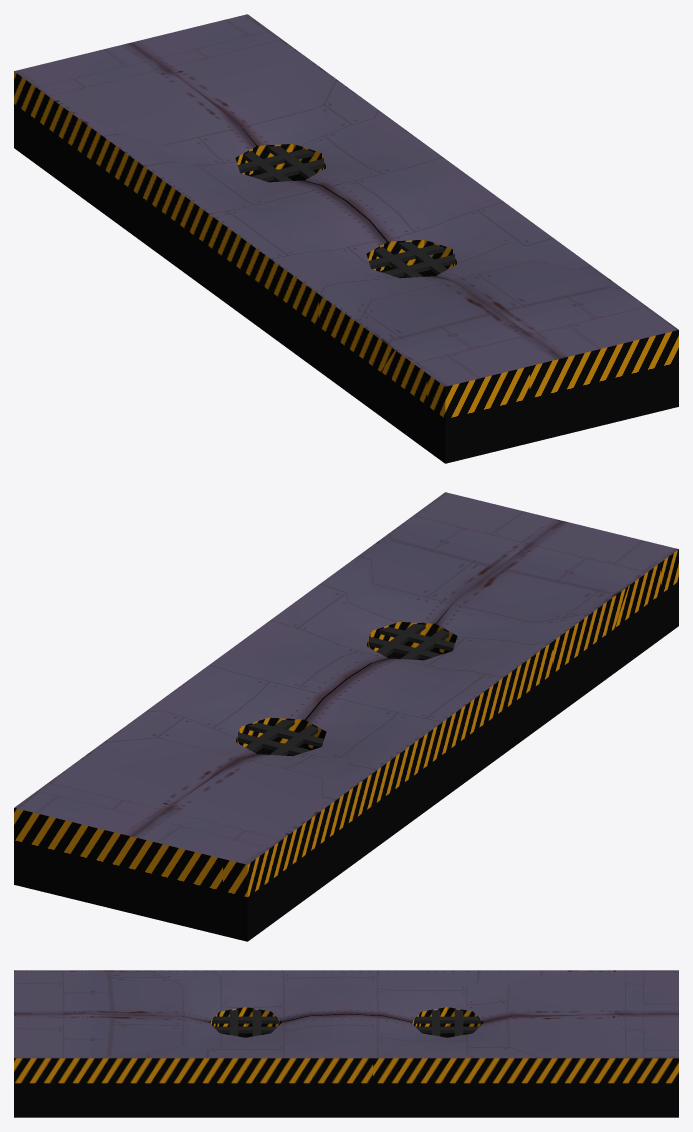
The model's file is Default_BGFloor.glb.
3 views of the same model, one above another, from view 1: azimuth 30°, elevation 25°; view 2: azimuth 150°, elevation 25°; view 3: azimuth 270°, elevation 25° (orthographic). The views are drawn at different scales.
Visible parts, largest first — view 1: Plane.001; view 2: Plane.001; view 3: Plane.001.
Part boxes in pixels (left/top/right/bottom): Plane.001: left=14, top=14, right=678, bottom=463; Plane.001: left=14, top=492, right=678, bottom=941; Plane.001: left=14, top=970, right=678, bottom=1117.
Size of the model in its own units: 4.44 by 1.4 by 14.18.
Materials: 2 (1 with a texture image).
